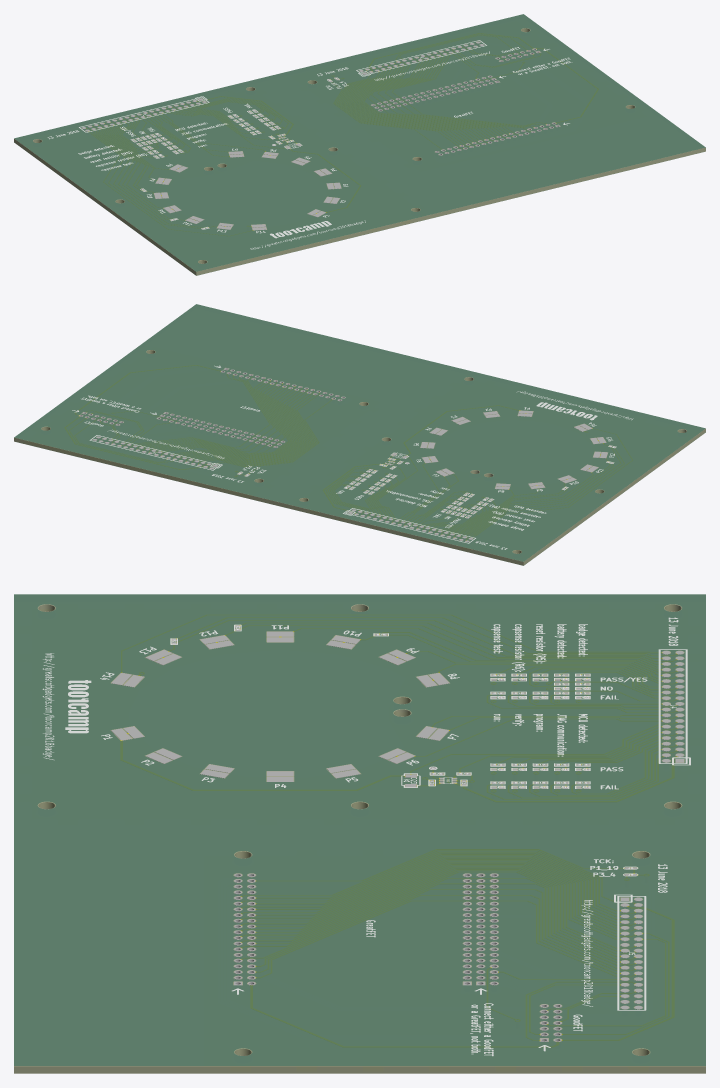
Rendered from toorcamp-2018-badge-electronic-jar-of-fireflies.glb.
3 renders of one model, top to bottom at view 1: azimuth 30°, elevation 25°; view 2: azimuth 150°, elevation 25°; view 3: azimuth 270°, elevation 25°, orthographic. The views are drawn at different scales.
Parts seen in each view (by area): view 1: =>[0:1:1:7], =>[0:1:1:9], =>[0:1:1:2], =>[0:1:1:5]; view 2: =>[0:1:1:7], =>[0:1:1:9], =>[0:1:1:2], =>[0:1:1:5]; view 3: =>[0:1:1:7], =>[0:1:1:9], =>[0:1:1:2], =>[0:1:1:5].
Boxes of the visible parts, x1,y1,x2,y2 form: =>[0:1:1:7]: [14, 14, 705, 275]; =>[0:1:1:9]: [14, 15, 705, 275]; =>[0:1:1:2]: [82, 34, 598, 230]; =>[0:1:1:5]: [47, 40, 572, 249]; =>[0:1:1:7]: [14, 304, 705, 565]; =>[0:1:1:9]: [14, 305, 705, 565]; =>[0:1:1:2]: [65, 368, 621, 542]; =>[0:1:1:5]: [72, 365, 633, 549]; =>[0:1:1:7]: [14, 594, 705, 1065]; =>[0:1:1:9]: [14, 595, 705, 1073]; =>[0:1:1:2]: [111, 615, 683, 1046]; =>[0:1:1:5]: [42, 617, 690, 1056].
Size of the model in its own units: 0.2104 by 0.00166 by 0.1304.
4 materials, 4 textured.
